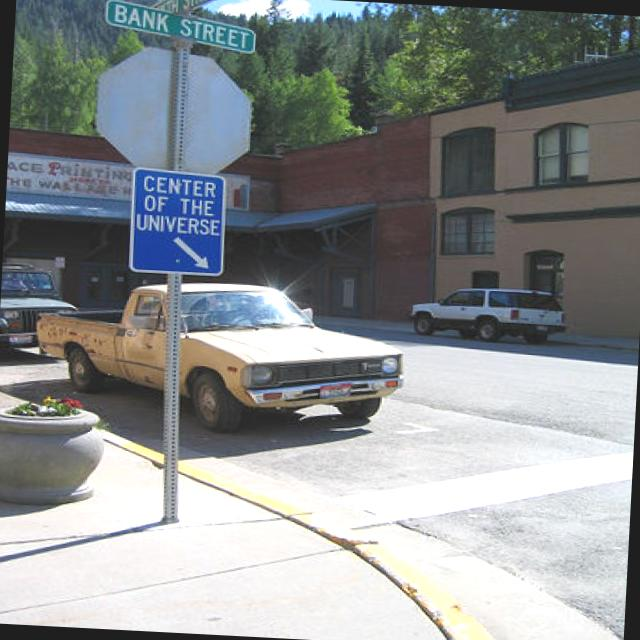Vehicle: (33, 272, 410, 448), (408, 283, 570, 346), (409, 284, 566, 348), (0, 262, 87, 355)
